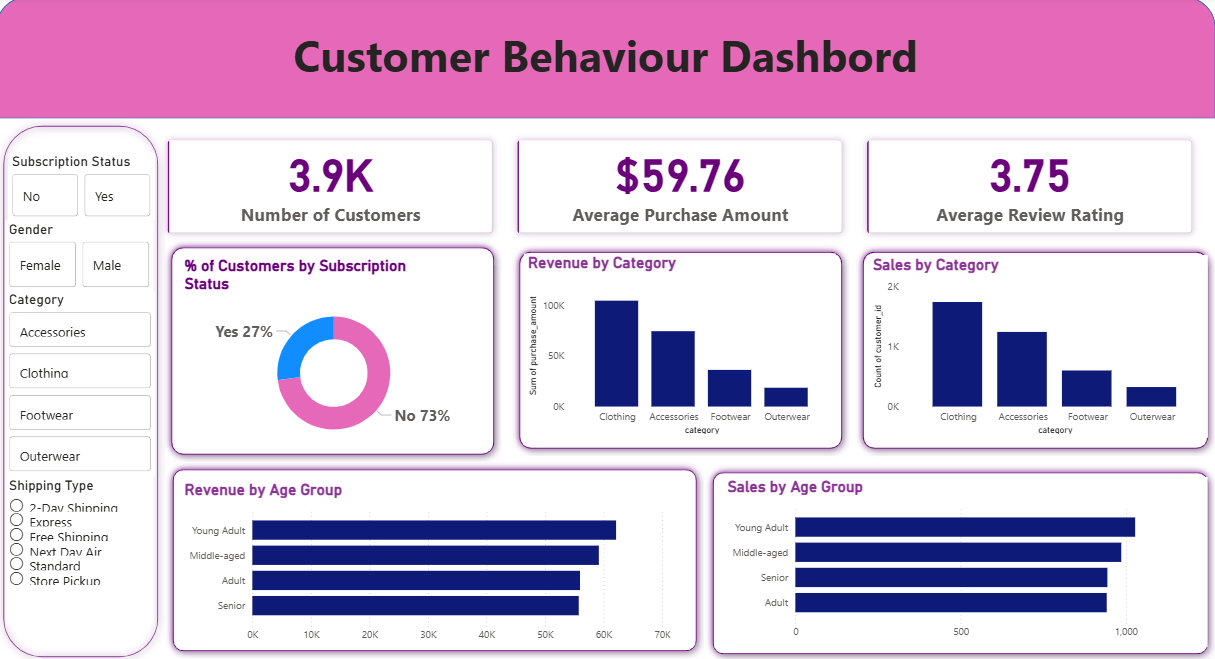

The page's visual inventory and layout, read from the dashboard file:
{"tool":"powerbi","page":{"name":"Page 1","canvas":[1500,820],"ordinal":0},"visuals":[{"type":"cardVisual","fields":{"Data":["mydatabase mytable.Number of Customers","mydatabase mytable.Average PUrchase Amount","mydatabase mytable.Average Review Rating"]},"box":[182.6,147.5,1316.7,171.5],"z":0},{"type":"shape","box":[0,0,1499.3,149.4],"z":1000},{"type":"textbox","box":[0,29.5,1499.3,119.9],"z":2000},{"type":"shape","box":[206.5,298.7,414.9,272.9],"z":3000},{"type":"donutChart","title":"% of Customers by Subscription Status","fields":{"Category":["mydatabase mytable.subscription_status"],"Y":["CountNonNull(mydatabase mytable.customer_id)"]},"box":[226.8,319,376.2,237.9],"z":4000},{"type":"shape","box":[1056.7,304.3,442.6,260],"z":5000},{"type":"shape","box":[634.4,304.3,414.9,260],"z":6000},{"type":"clusteredColumnChart","title":"Revenue by Category","fields":{"Y":["Sum(mydatabase mytable.purchase_amount)"],"Category":["mydatabase mytable.category"]},"box":[649.1,315.3,383.6,226.8],"z":6001},{"type":"clusteredColumnChart","title":"Sales by Category","fields":{"Y":["CountNonNull(mydatabase mytable.customer_id)"],"Category":["mydatabase mytable.category"]},"box":[1073.3,317.2,416.8,225],"z":6002},{"type":"shape","box":[0,149.4,208.4,671.3],"z":6003},{"type":"advancedSlicerVisual","fields":{"Values":["mydatabase mytable.subscription_status"]},"box":[14.8,191.8,180.7,83],"z":6004},{"type":"advancedSlicerVisual","fields":{"Values":["mydatabase mytable.gender"]},"box":[11.1,274.8,182.6,86.7],"z":6005},{"type":"advancedSlicerVisual","fields":{"Values":["mydatabase mytable.category"]},"box":[11.1,361.4,184.4,228.7],"z":6006},{"type":"listSlicer","fields":{"Values":["mydatabase mytable.shipping_type"]},"box":[11.1,590.1,182.6,191.8],"z":6007},{"type":"shape","box":[208.4,571.7,662,241.6],"z":6009},{"type":"shape","box":[872.3,575.4,627,241.6],"z":6010},{"type":"clusteredBarChart","title":"Sales by Age Group","fields":{"Y":["CountNonNull(mydatabase mytable.customer_id)"],"Category":["mydatabase mytable.age_group"]},"box":[894.4,590.1,595.7,208.4],"z":6011},{"type":"clusteredBarChart","title":"Revenue by Age Group","fields":{"Y":["Sum(mydatabase mytable.purchase_amount)"],"Category":["mydatabase mytable.age_group"]},"box":[226.8,593.8,606.7,208.4],"z":6012}]}

Visuals, with their boxes in screenshot pixels (x1, y1, x2, y2), scaled from the page's 1500x820 canvas onto the 1215x659 screenshot:
cardVisual - mydatabase mytable.Number of Customers x mydatabase mytable.Average PUrchase Amount: bbox(148, 119, 1214, 256)
shape: bbox(0, 0, 1214, 120)
textbox: bbox(0, 24, 1214, 120)
shape: bbox(167, 240, 503, 459)
"% of Customers by Subscription Status" donutChart: bbox(184, 256, 488, 448)
shape: bbox(856, 245, 1214, 454)
shape: bbox(514, 245, 850, 454)
"Revenue by Category" clusteredColumnChart: bbox(526, 253, 836, 436)
"Sales by Category" clusteredColumnChart: bbox(869, 255, 1207, 436)
shape: bbox(0, 120, 169, 658)
advancedSlicerVisual - mydatabase mytable.subscription_status: bbox(12, 154, 158, 221)
advancedSlicerVisual - mydatabase mytable.gender: bbox(9, 221, 157, 291)
advancedSlicerVisual - mydatabase mytable.category: bbox(9, 290, 158, 474)
listSlicer - mydatabase mytable.shipping_type: bbox(9, 474, 157, 628)
shape: bbox(169, 459, 705, 654)
shape: bbox(707, 462, 1214, 657)
"Sales by Age Group" clusteredBarChart: bbox(724, 474, 1207, 642)
"Revenue by Age Group" clusteredBarChart: bbox(184, 477, 675, 645)
